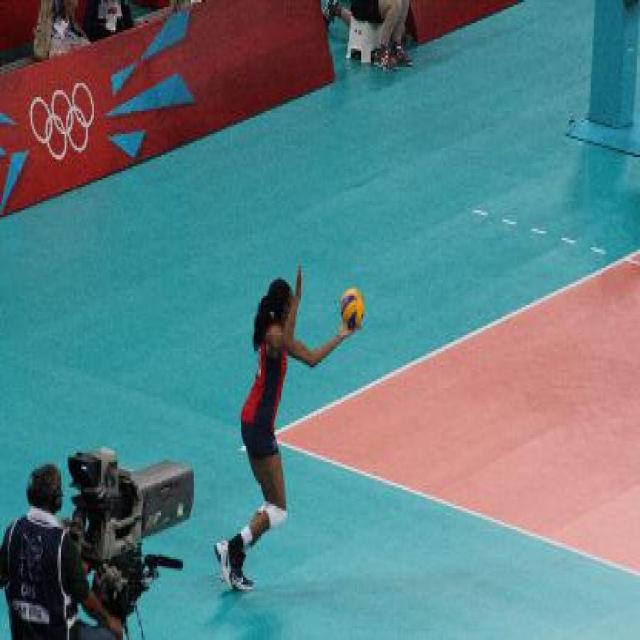Volleyball: (339, 290, 365, 328)
